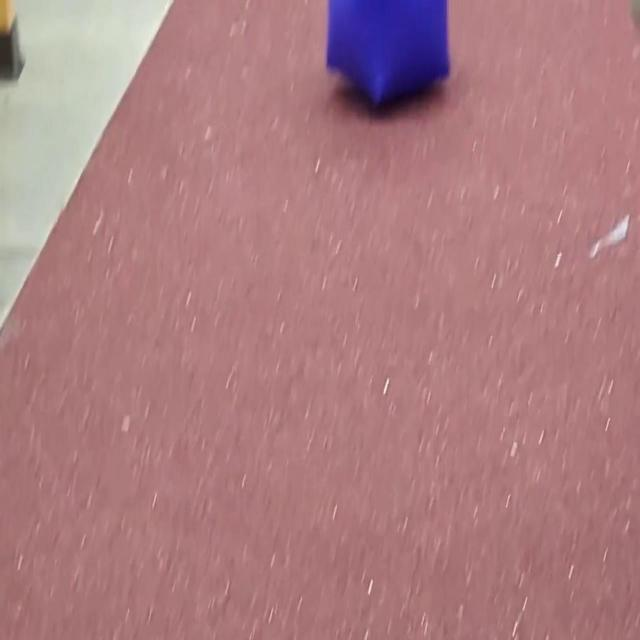frc_cube: (326, 0, 451, 109)
